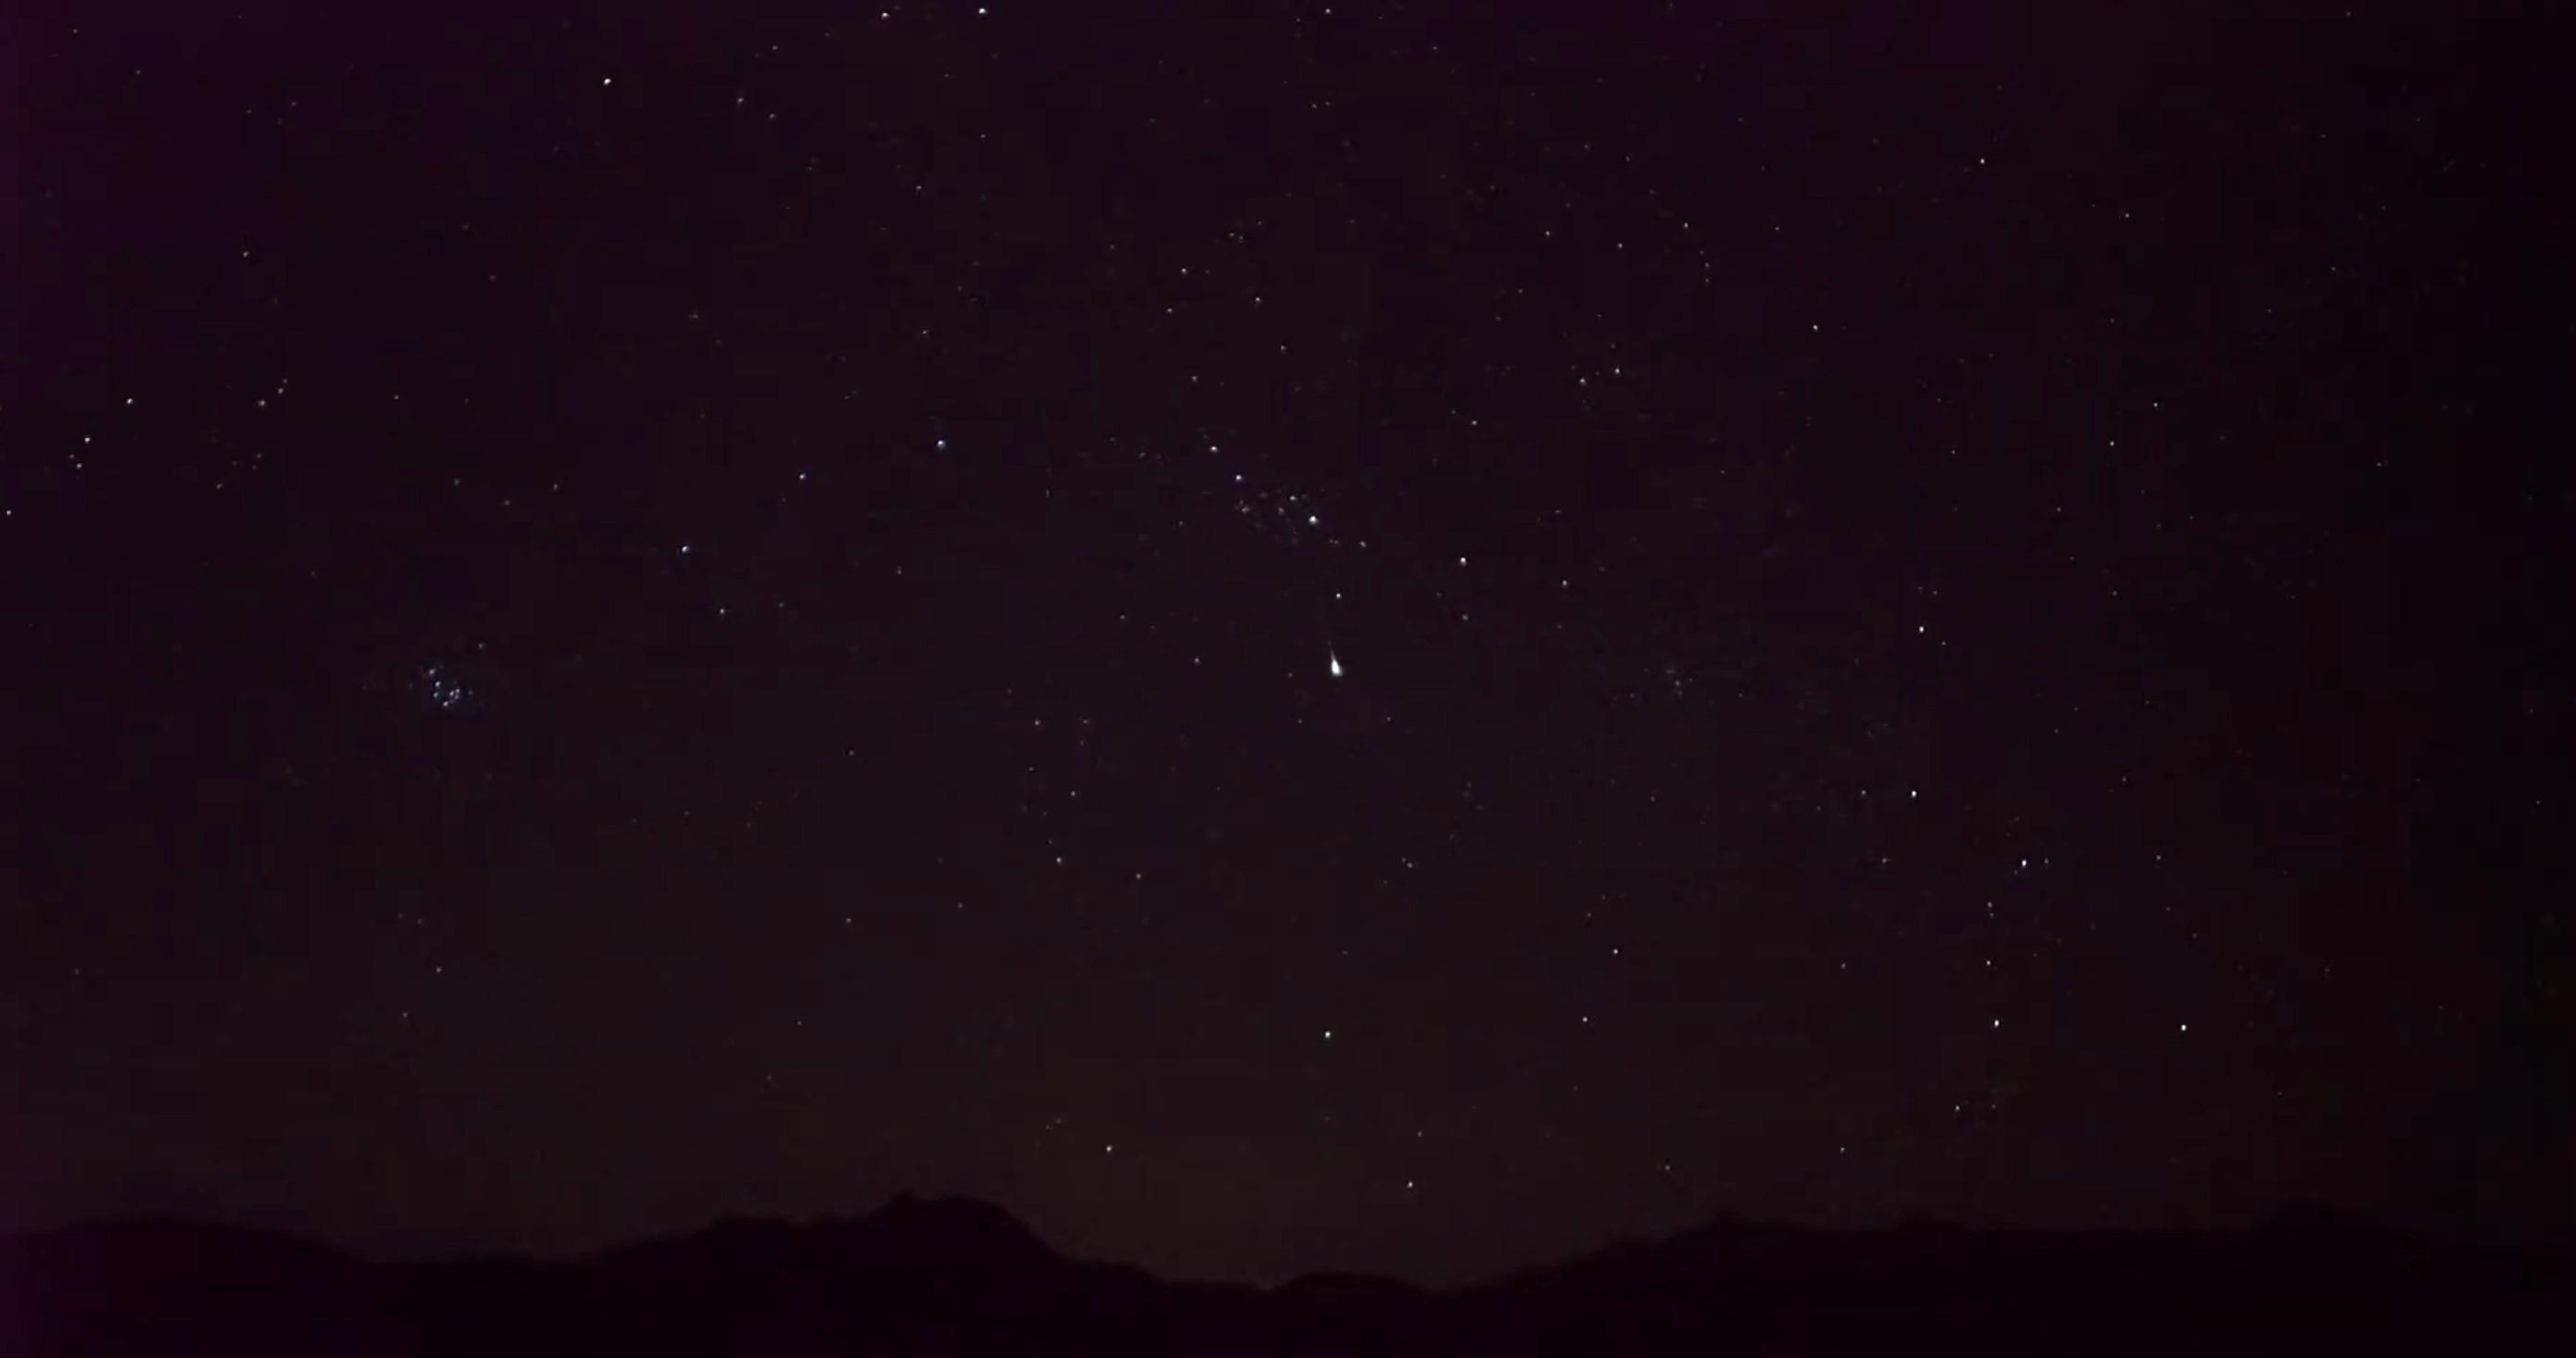meteorite: (1281, 632, 1385, 695)
